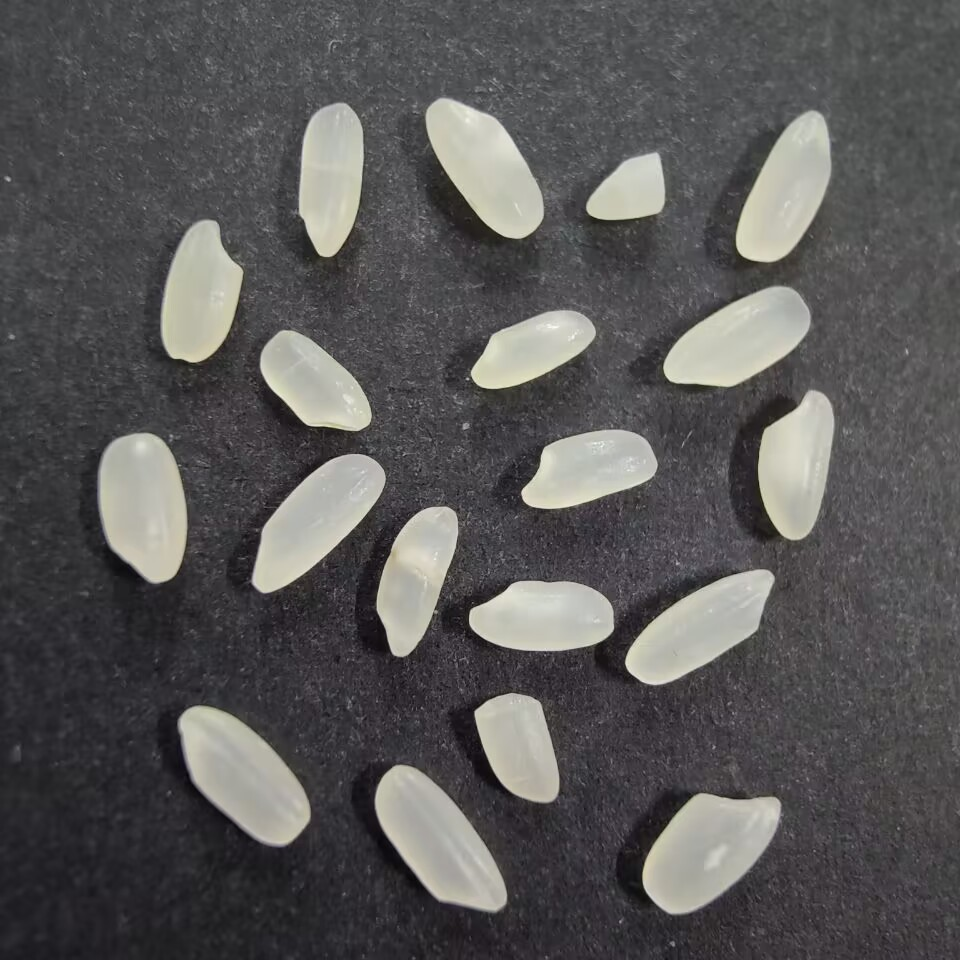broken: (471, 691, 570, 809), (581, 146, 669, 226)
rice: (371, 762, 509, 919), (170, 702, 314, 852), (248, 451, 389, 595), (639, 785, 785, 917), (625, 567, 779, 690), (423, 92, 547, 242), (659, 282, 817, 393), (733, 108, 836, 266), (94, 431, 189, 590), (372, 502, 462, 661), (156, 214, 246, 362), (753, 387, 836, 541), (517, 426, 659, 515), (255, 328, 373, 431), (461, 579, 618, 654), (464, 306, 599, 390), (295, 100, 365, 259)
